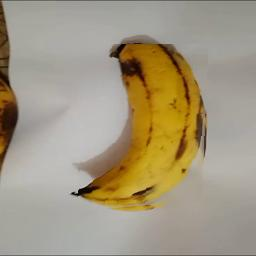Banana Semifresh: (78, 45, 209, 212)
